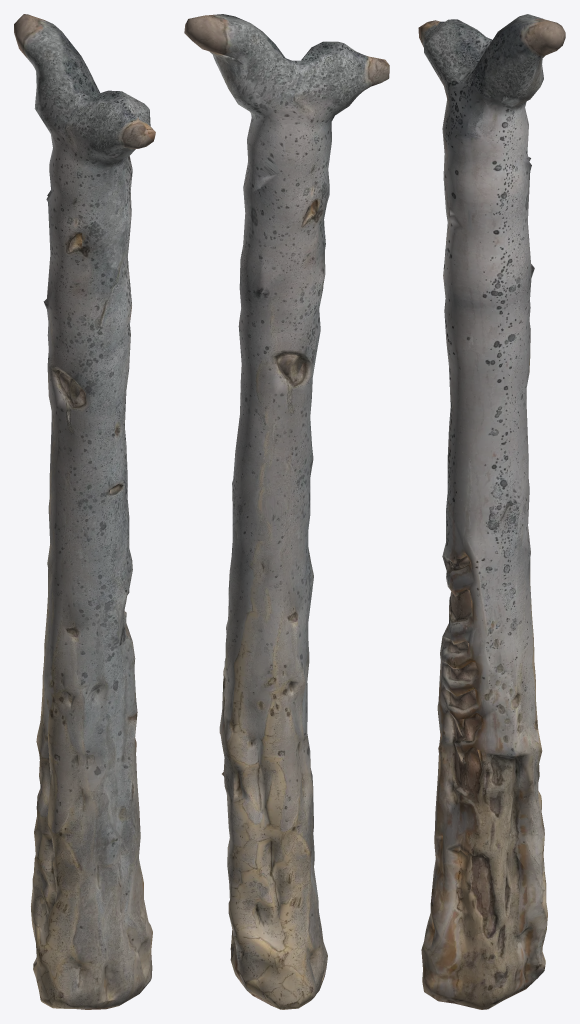
Rendered from dead_quiver_trunk.glb.
3 views of the same model, side by side, from view 1: azimuth 90°, elevation 25°; view 2: azimuth 150°, elevation 25°; view 3: azimuth 270°, elevation 25° (orthographic). The views are drawn at different scales.
Parts seen in each view (by area): view 1: dead_quiver_trunk; view 2: dead_quiver_trunk; view 3: dead_quiver_trunk.
Boxes of the visible parts, x1=… form: dead_quiver_trunk: x1=14, y1=14, x2=155, y2=1009; dead_quiver_trunk: x1=184, y1=14, x2=389, y2=1009; dead_quiver_trunk: x1=418, y1=14, x2=565, y2=1009.
Size of the model in its own units: 0.307 by 1.99 by 0.2666.
1 material, 1 textured.
